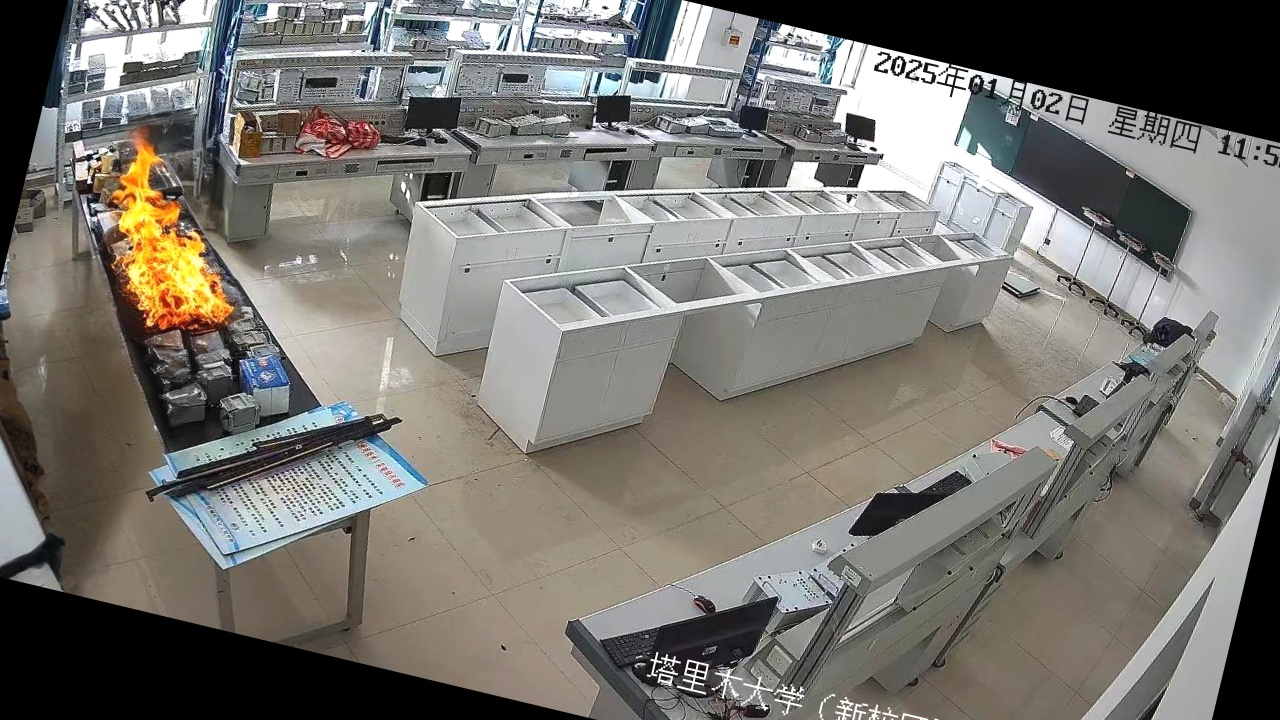fire: (57, 141, 276, 355)
